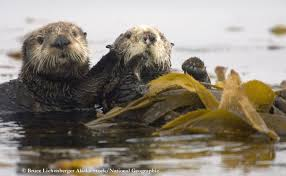otter: (100, 17, 226, 152), (13, 8, 96, 130)
